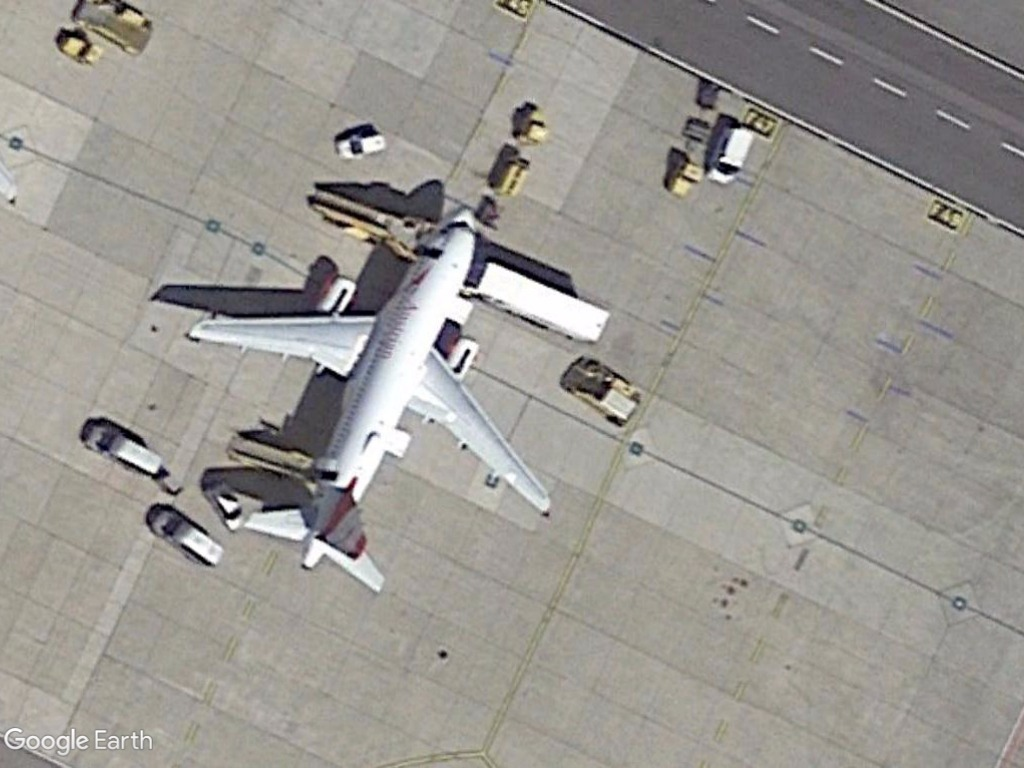airliner: (189, 199, 557, 597)
car: (332, 131, 388, 163)
stairtruck: (304, 183, 426, 262), (224, 430, 320, 492)
van: (148, 508, 227, 569), (87, 419, 165, 480), (704, 120, 754, 190)
